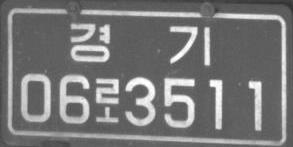0: (20, 72, 51, 122)
1: (204, 78, 230, 130), (244, 79, 269, 132)
3: (124, 75, 156, 126)
5: (163, 76, 196, 128)
6: (58, 73, 90, 124)
경기_D: (70, 22, 211, 67)
로: (94, 76, 119, 123)
